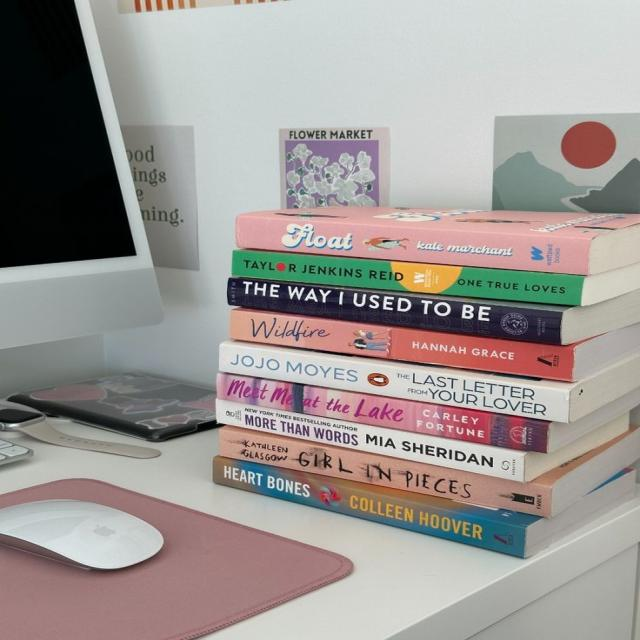book: (213, 458, 525, 558), (218, 429, 551, 518), (219, 344, 570, 422), (217, 373, 550, 454), (216, 401, 525, 484), (231, 310, 574, 381), (226, 278, 563, 344), (235, 216, 591, 276), (233, 250, 583, 306)
